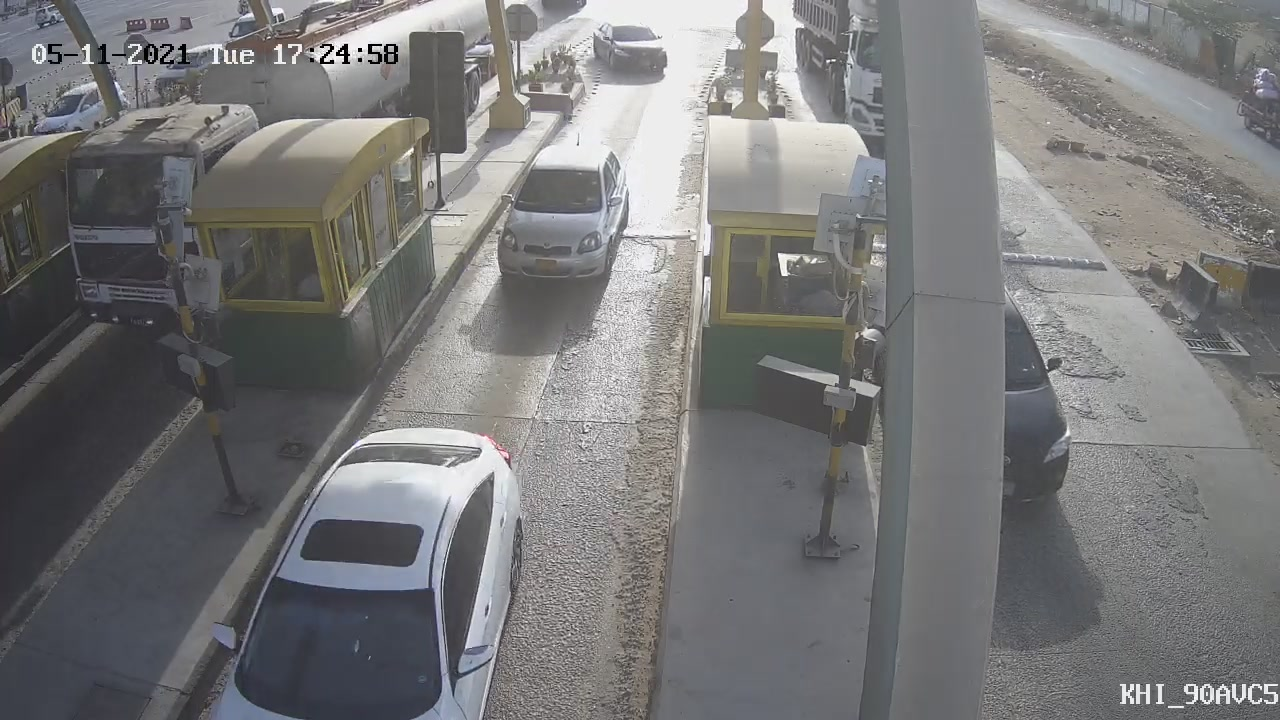F1: (474, 125, 647, 312)
